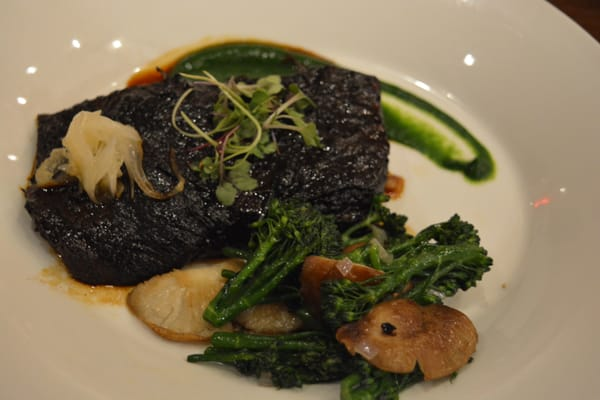curry: (320, 209, 494, 326), (203, 195, 344, 327)
